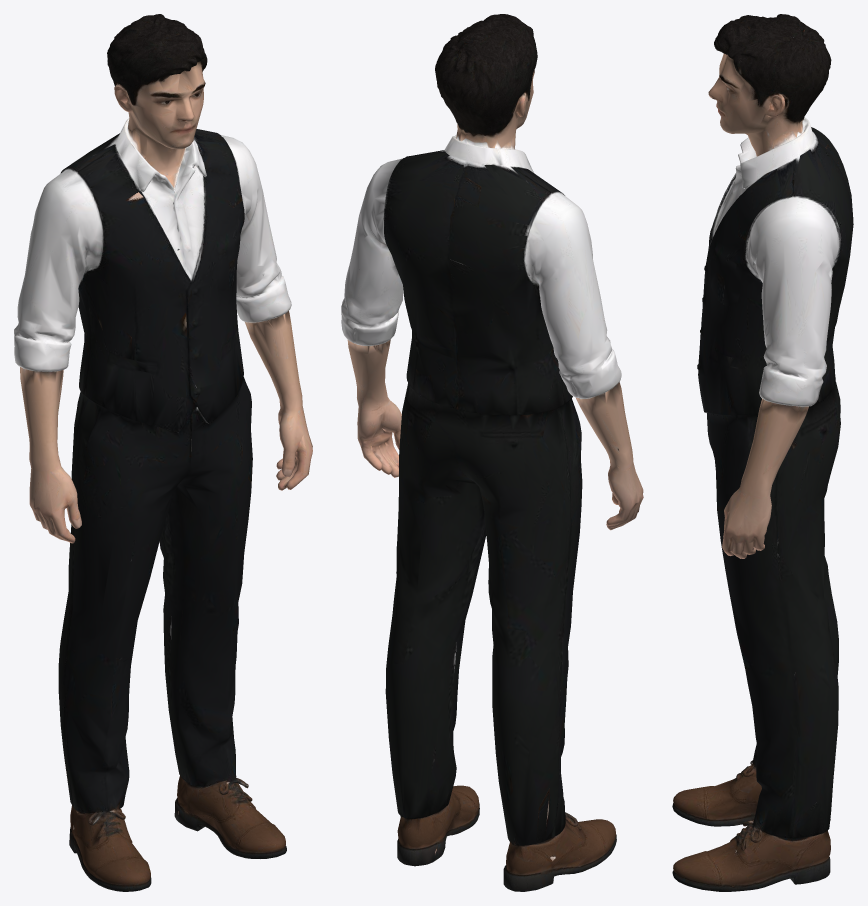
File: waiter.glb
The picture shows the model from 3 angles, left to right: view 1: azimuth 30°, elevation 25°; view 2: azimuth 150°, elevation 25°; view 3: azimuth 270°, elevation 25°; orthographic projection.
Visible parts, largest first — view 1: Mesh_0; view 2: Mesh_0; view 3: Mesh_0.
Boxes of the visible parts, x1,y1,x2,y2 form: Mesh_0: (14,14,312,891); Mesh_0: (341,14,643,891); Mesh_0: (672,14,853,891).
Size of the model in its own units: 0.6623 by 1.9 by 0.3763.
Materials: 1 (1 with a texture image).
